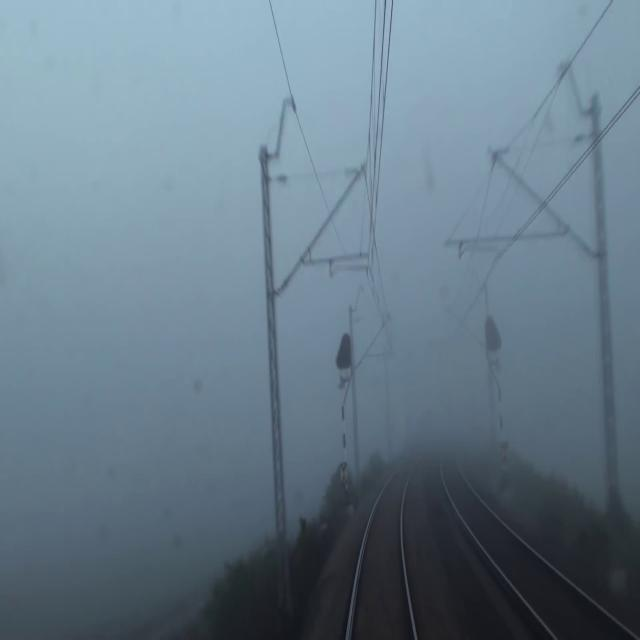rail-track: (444, 457, 630, 639), (351, 462, 413, 639)
